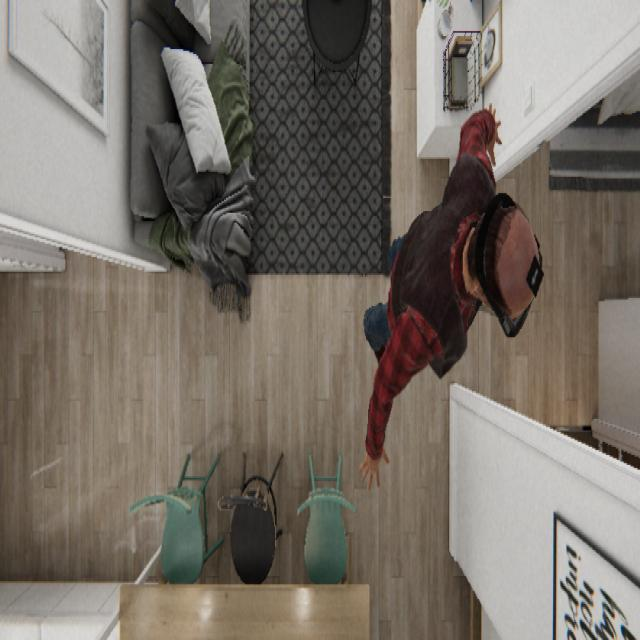Human: (357, 102, 544, 490)
UnityLogo: (524, 250, 544, 296)
